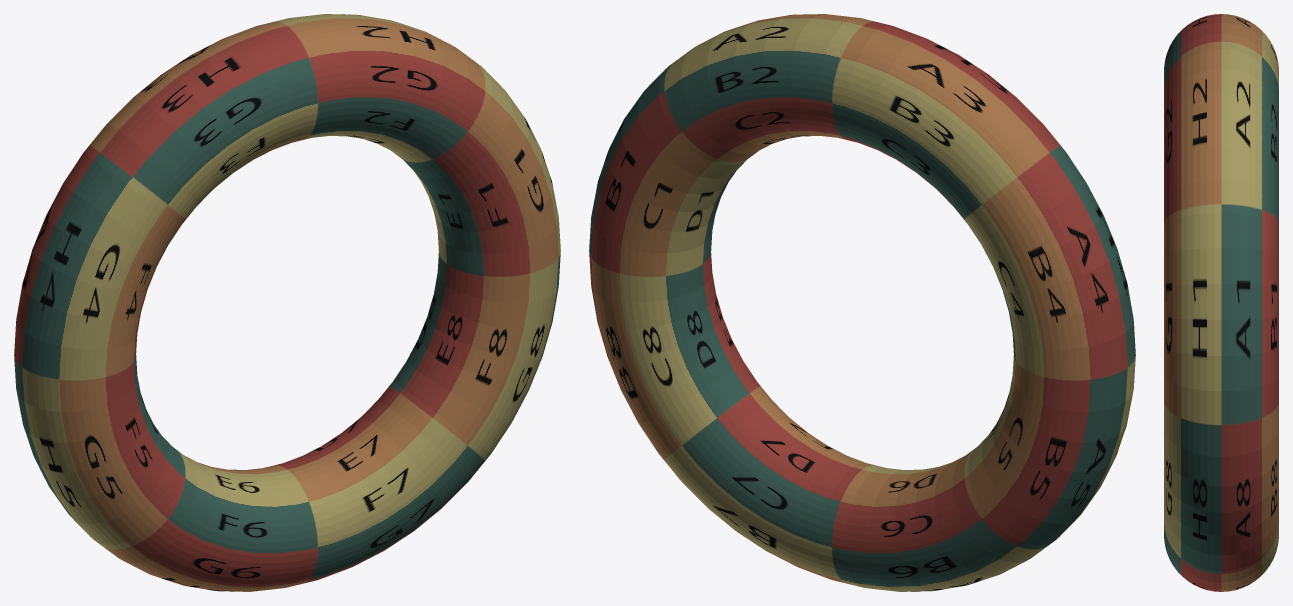
Rendered from texture_torus_R26_r18.glb.
The picture shows the model from 3 angles, left to right: view 1: azimuth 30°, elevation 25°; view 2: azimuth 150°, elevation 25°; view 3: azimuth 270°, elevation 25°; orthographic projection. The views are drawn at different scales.
Visible parts, largest first — view 1: world; view 2: world; view 3: world.
Part boxes in pixels (x1,y1,x2,y2): world: [14, 14, 560, 591]; world: [589, 14, 1135, 591]; world: [1164, 14, 1278, 591].
Size of the model in its own units: 34.13 by 34.07 by 6.79.
1 material, 1 textured.
